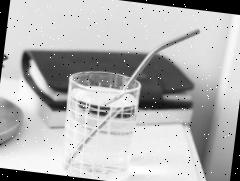glass: (56, 69, 143, 181)
